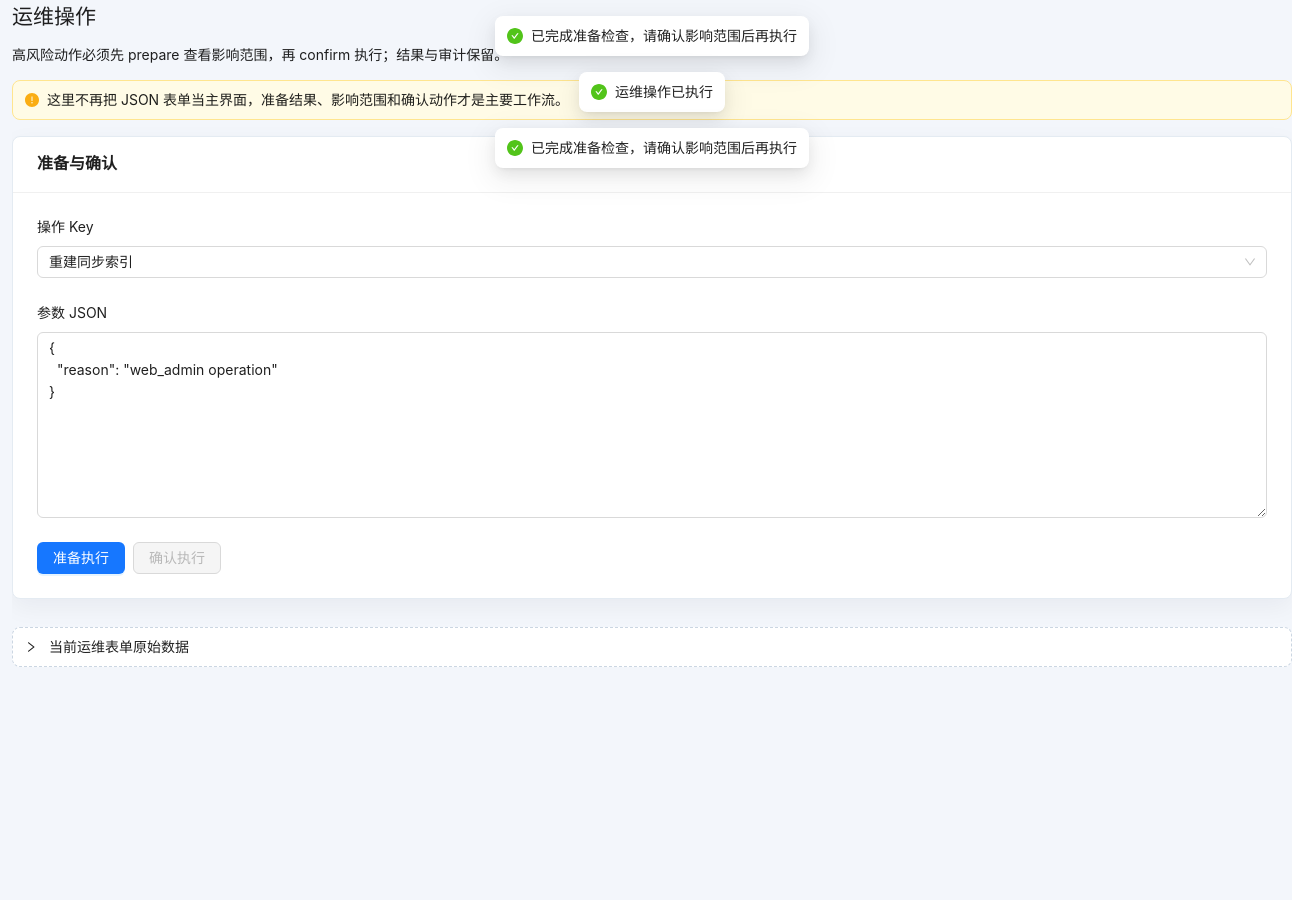
Test: OperationsPage › shows non-error prepare failures as text
Click the button "准备执行" at (81, 558), box [37,542,125,574]
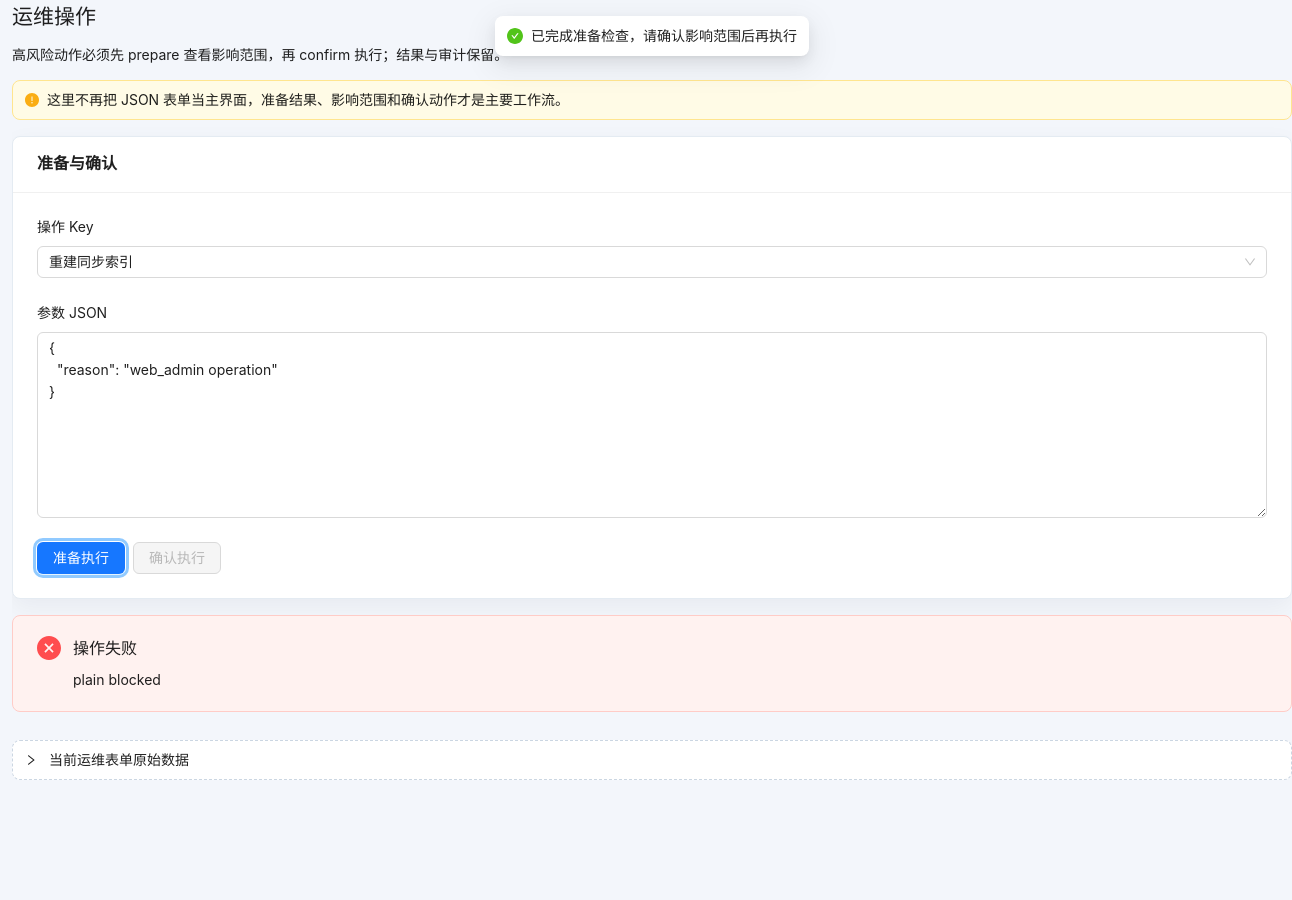
Now the text "plain blocked" is shown, box [73,671,161,688]
